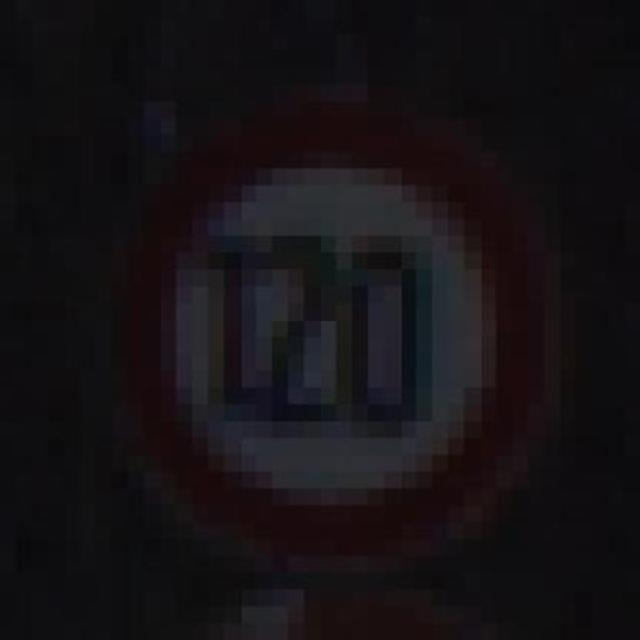forb_speed_over_120: (123, 112, 545, 570)
